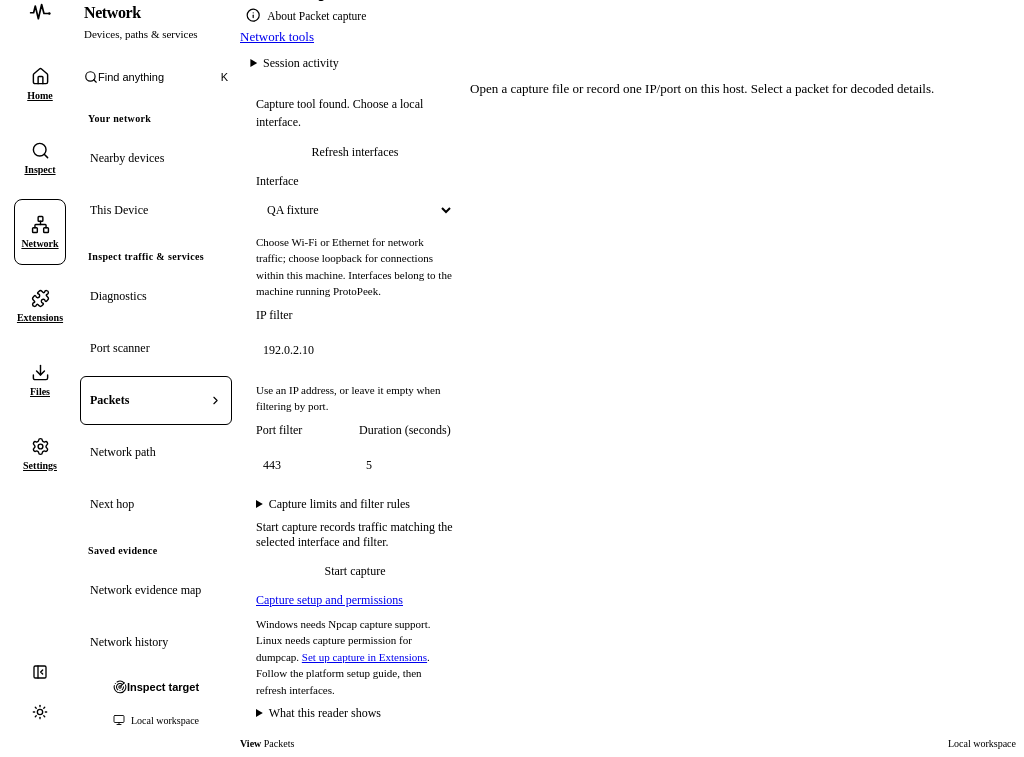
Scenario: prefills a device handoff, selects the sole interface and waits for Start capture
(page scrolled)
expect the dropdown labelled "Interface" shows "QA fixture": met, box [256,194,454,226]
expect the field labelled "IP filter" holds "192.0.2.10": met, box [256,328,454,374]
Click the button "Start capture" at (355, 572), box [256,558,454,585]
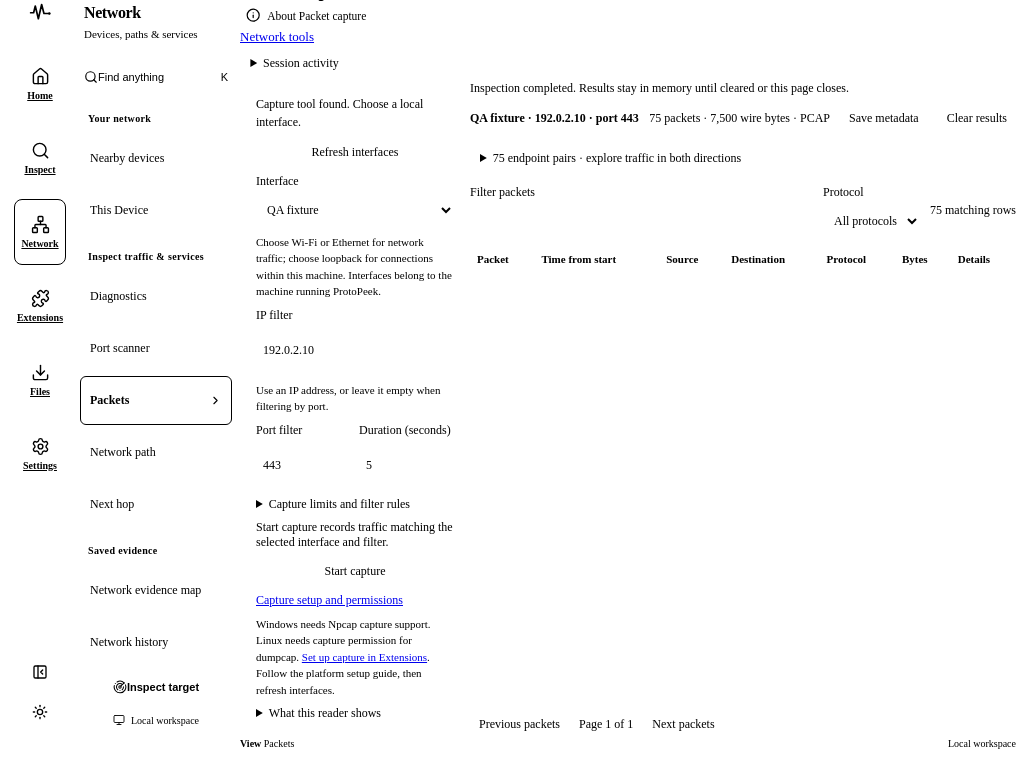
expect the table is shown: met, box [470,246,1016,272]
